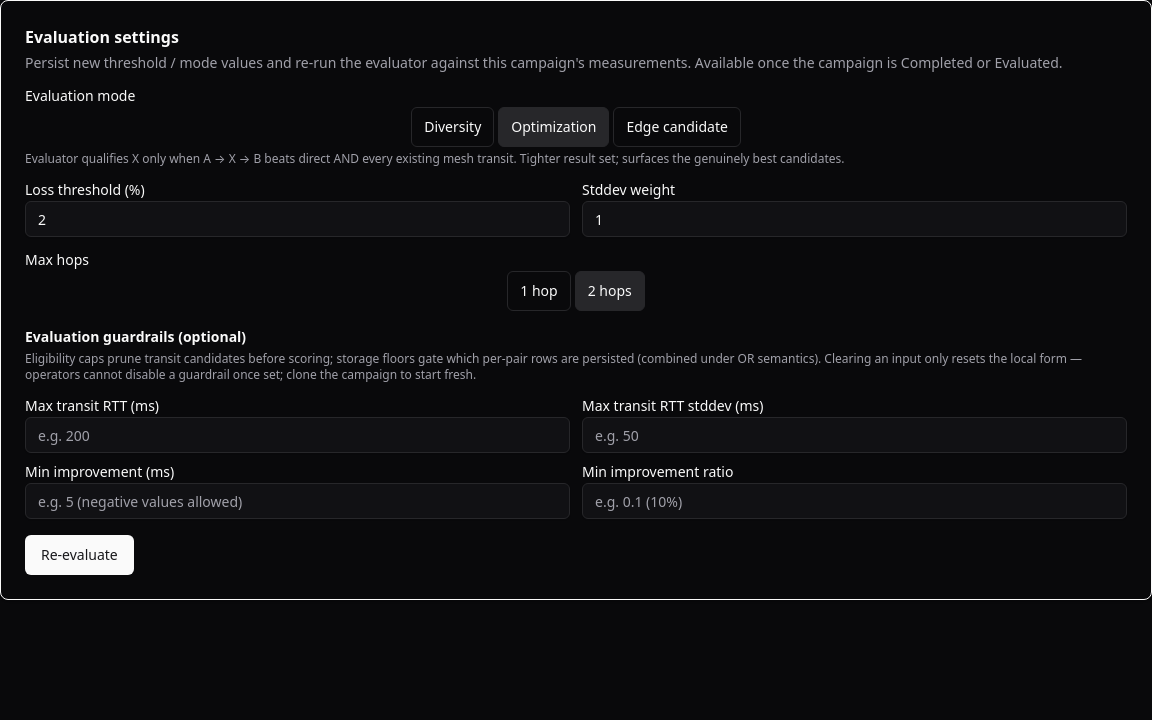
Test: SettingsTab — submit flow › surfaces a no_baseline_pairs toast when the evaluator rejects the request
The width and height of the screenshot is (1152, 720).
Click the button "Re-evaluate" at (79,555), box [25,535,134,575]
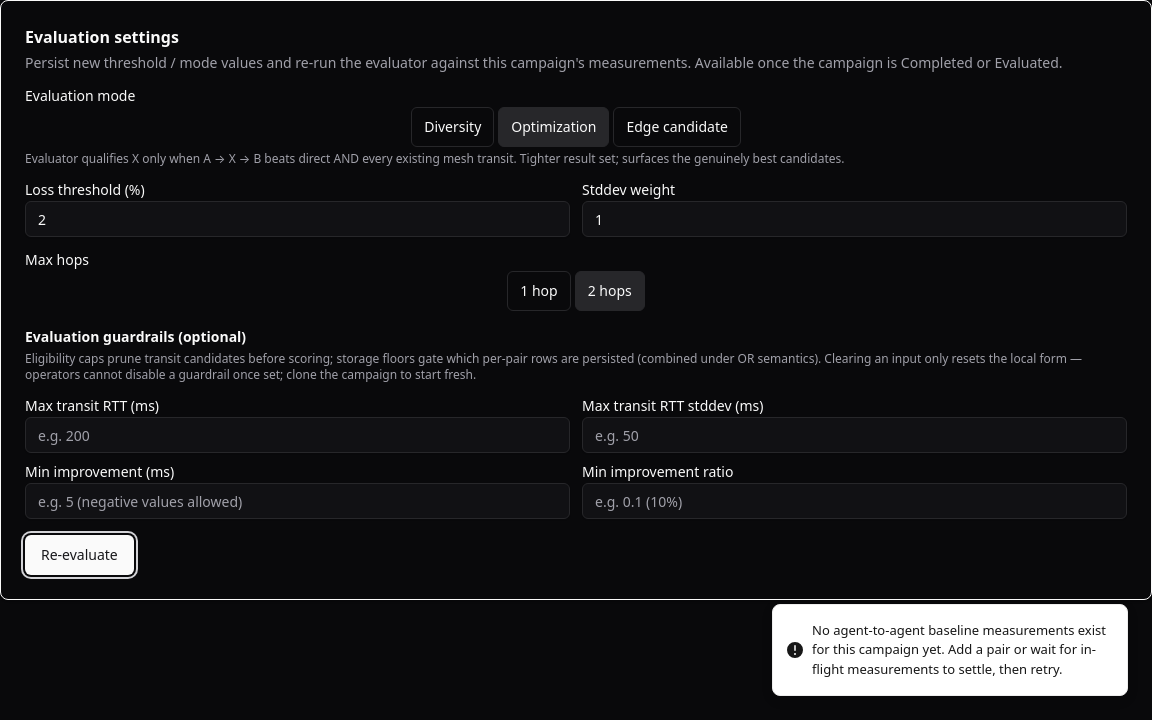
Expected: the number field labelled "Loss threshold (%)" is shown, [25,201,570,237]
Expected: the text "No agent-to-agent baseline measurements exist" is shown, [812,620,1106,678]
